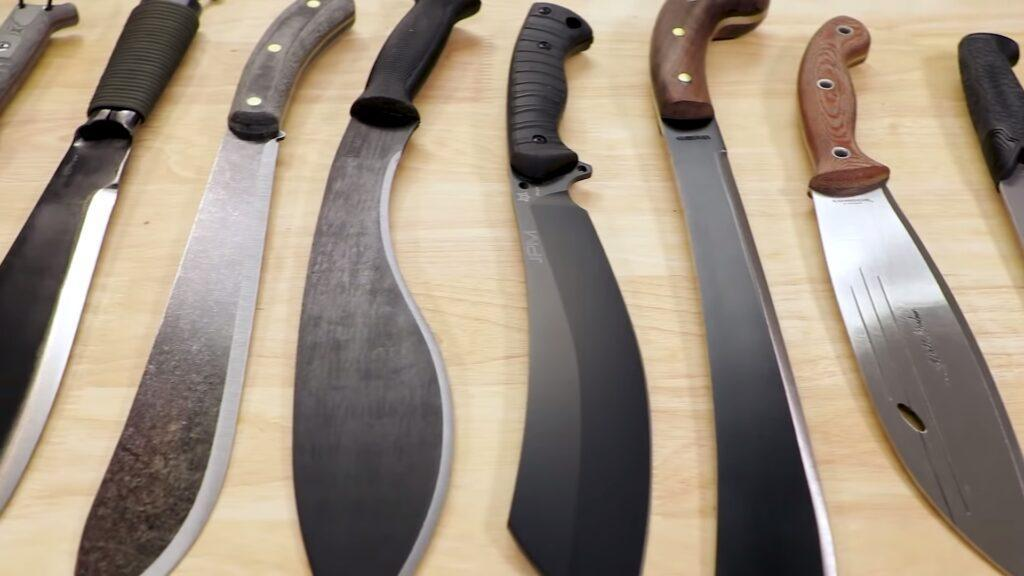facao: (75, 0, 353, 575), (798, 16, 1023, 575), (293, 0, 479, 575), (651, 0, 836, 575), (0, 0, 199, 511), (507, 4, 650, 575)
